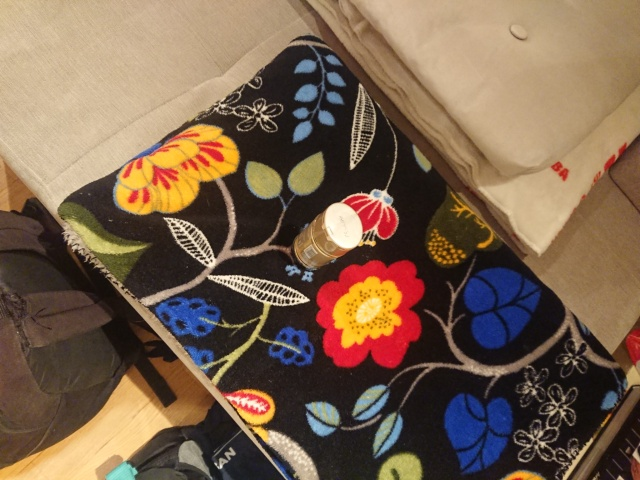Kotanyi Garlic Granules 70g: (288, 200, 365, 273)
